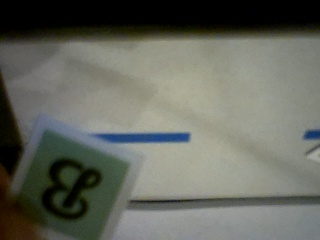B: (12, 128, 131, 240)
